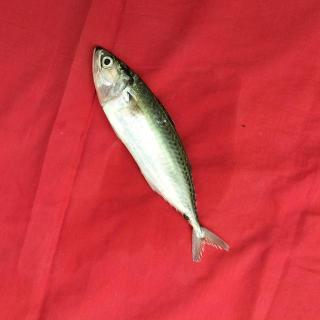Ikan: (75, 35, 243, 274)
